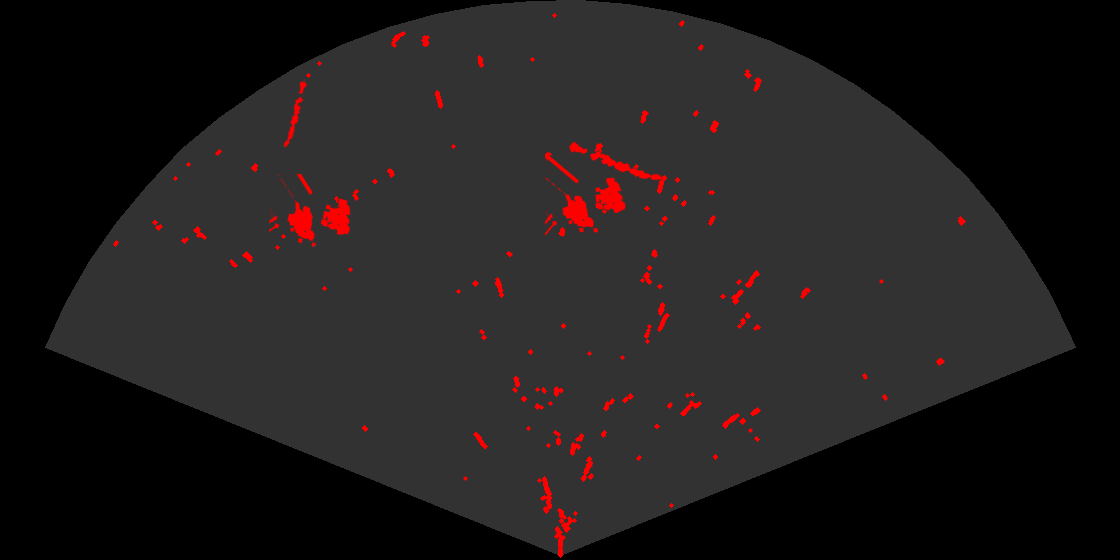cage: (545, 155, 627, 237), (269, 174, 352, 249)
chain: (567, 140, 663, 182), (282, 79, 309, 149)
